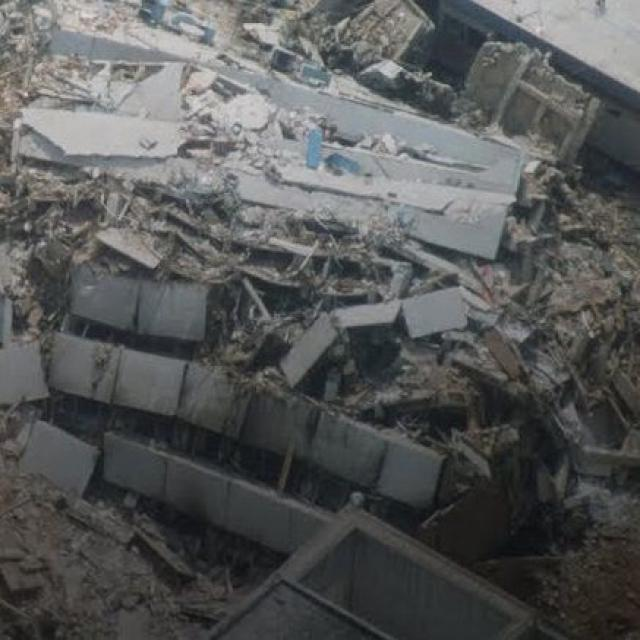collapsed_building: (3, 2, 551, 530)
